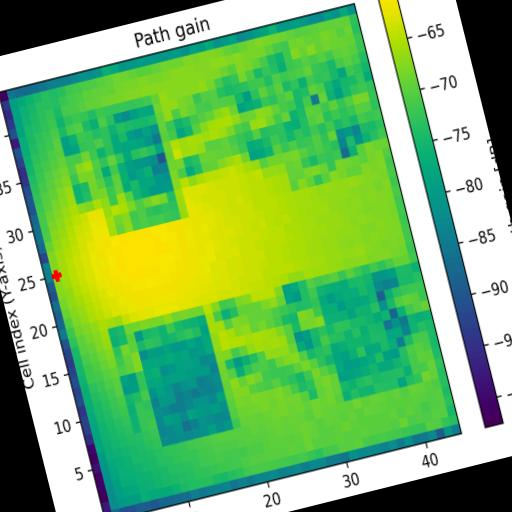Concrete: (262, 53, 362, 193)
Glass: (79, 96, 182, 237)
Metal: (313, 258, 422, 400)
Wood: (132, 305, 234, 448)
